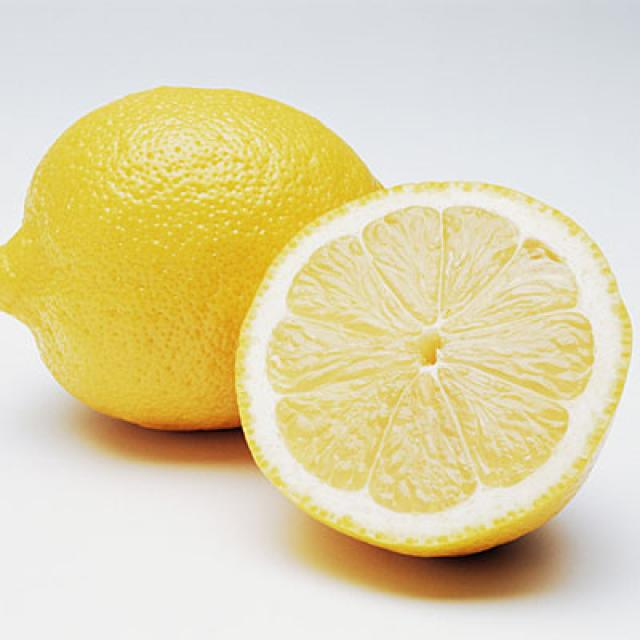lemon: (0, 64, 434, 500), (206, 153, 635, 583)
